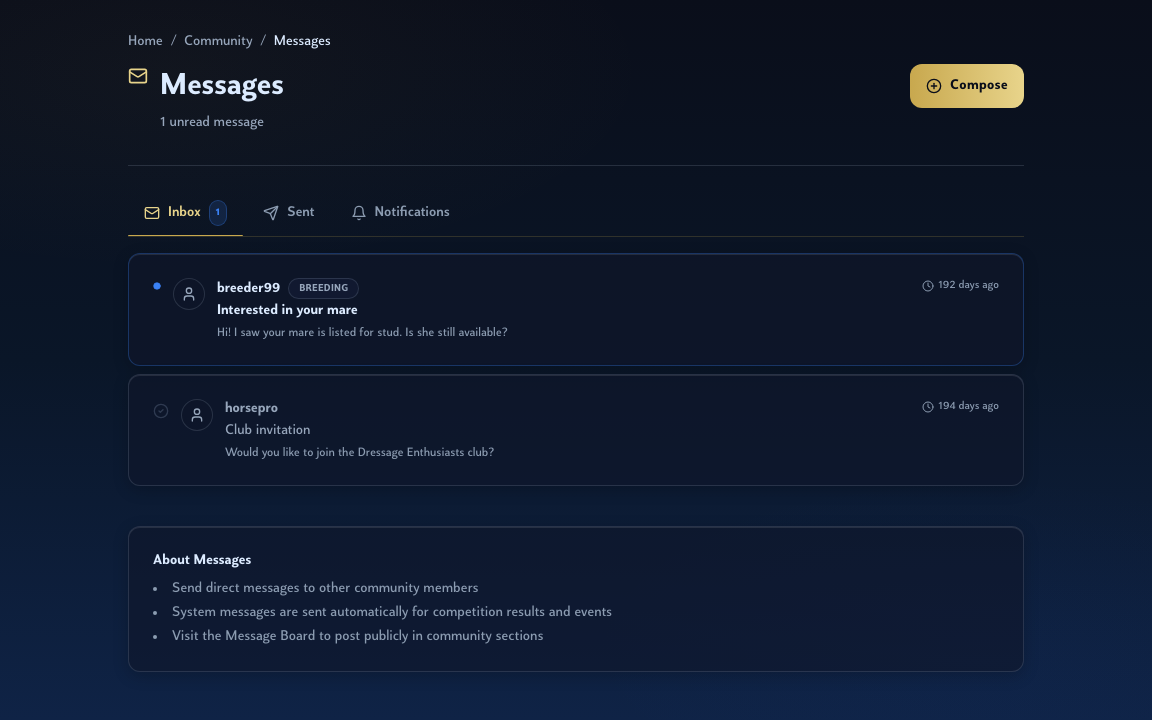
Test: MessagesPage — tab switching (Equoria-o5hub.30) › switching back from Sent to Inbox restores the inbox messages
The width and height of the screenshot is (1152, 720).
Expected: the text "Interested in your mare" is shown, top-left (217, 303), bottom-right (358, 318)
Click the tab with test id "tab-sent". click: (289, 213)
box: top-left (247, 193), bottom-right (330, 233)
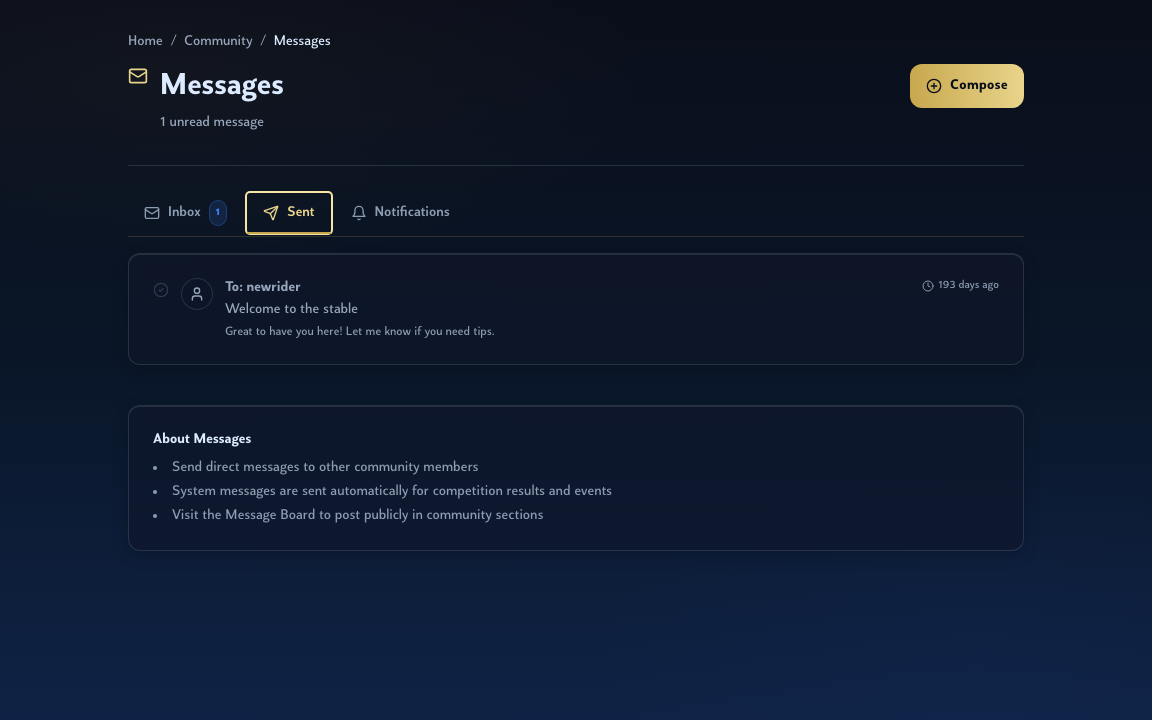
Now the text "Welcome to the stable" is shown, box top-left (225, 302), bottom-right (358, 317)
Click the tab with test id "tab-inbox". click: (186, 213)
box: top-left (128, 190), bottom-right (243, 236)
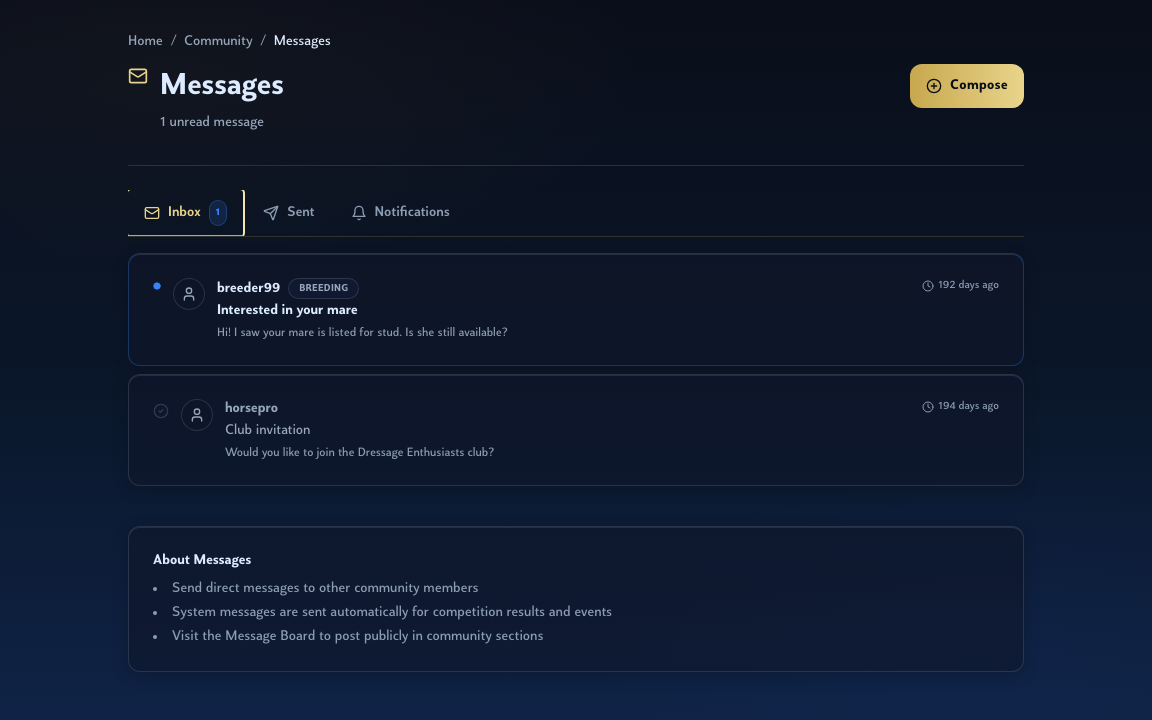
Now the text "Interested in your mare" is shown, box top-left (217, 303), bottom-right (358, 318)
Now the button "Welcome to the stable" is gone
